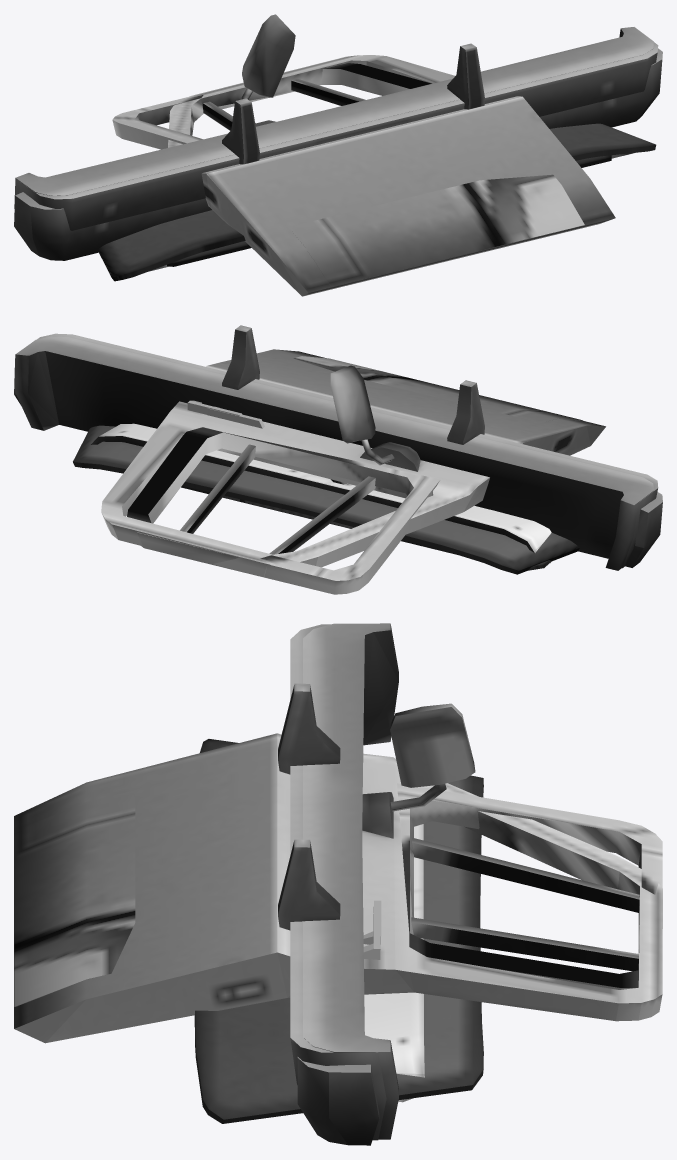
The model's file is Vehicles_3rdGenChevyCKseries_Objects.fbx.
3 views of the same model, one above another, from view 1: azimuth 30°, elevation 25°; view 2: azimuth 150°, elevation 25°; view 3: azimuth 270°, elevation 25° (orthographic). The views are drawn at different scales.
Visible parts, largest first — view 1: 3rdGenChevyCKseries_door_flWI, 3rdGenChevyCKseries_door_rlWI, 3rdGenChevyCKseries_bumper_front1WI, 3rdGenChevyCKseries_bumper_front0WI, 3rdGenChevyCKseries_bumper_rear0WI, 3rdGenChevyCKseries_windshield_frontWI, 3rdGenChevyCKseries_window_blWI; view 2: 3rdGenChevyCKseries_bumper_front1WI, 3rdGenChevyCKseries_door_flWI, 3rdGenChevyCKseries_door_rlWI, 3rdGenChevyCKseries_windshield_frontWI, 3rdGenChevyCKseries_visorWI, 3rdGenChevyCKseries_bumper_front0WI, 3rdGenChevyCKseries_bumper_rear0WI, 3rdGenChevyCKseries_window_blWI; view 3: 3rdGenChevyCKseries_door_flWI, 3rdGenChevyCKseries_door_rlWI, 3rdGenChevyCKseries_bumper_front1WI, 3rdGenChevyCKseries_windshield_frontWI, 3rdGenChevyCKseries_bumper_rear0WI, 3rdGenChevyCKseries_bumper_front0WI, 3rdGenChevyCKseries_visorWI.
Boxes of the visible parts, x1,y1,x2,y2 form: 3rdGenChevyCKseries_door_flWI: [168, 14, 615, 296]; 3rdGenChevyCKseries_door_rlWI: [112, 63, 584, 286]; 3rdGenChevyCKseries_bumper_front1WI: [14, 27, 653, 208]; 3rdGenChevyCKseries_bumper_front0WI: [19, 42, 658, 230]; 3rdGenChevyCKseries_bumper_rear0WI: [14, 48, 662, 260]; 3rdGenChevyCKseries_windshield_frontWI: [97, 123, 656, 281]; 3rdGenChevyCKseries_window_blWI: [167, 155, 611, 266]; 3rdGenChevyCKseries_bumper_front1WI: [14, 325, 653, 570]; 3rdGenChevyCKseries_door_flWI: [101, 349, 605, 577]; 3rdGenChevyCKseries_door_rlWI: [127, 356, 583, 594]; 3rdGenChevyCKseries_windshield_frontWI: [73, 425, 579, 574]; 3rdGenChevyCKseries_visorWI: [91, 423, 551, 563]; 3rdGenChevyCKseries_bumper_front0WI: [37, 333, 658, 568]; 3rdGenChevyCKseries_bumper_rear0WI: [14, 358, 662, 567]; 3rdGenChevyCKseries_window_blWI: [181, 486, 551, 570]; 3rdGenChevyCKseries_door_flWI: [14, 703, 662, 1043]; 3rdGenChevyCKseries_door_rlWI: [14, 783, 662, 1006]; 3rdGenChevyCKseries_bumper_front1WI: [278, 623, 398, 1139]; 3rdGenChevyCKseries_windshield_frontWI: [194, 739, 483, 1123]; 3rdGenChevyCKseries_bumper_rear0WI: [297, 1057, 379, 1145]; 3rdGenChevyCKseries_bumper_front0WI: [290, 624, 386, 1140]; 3rdGenChevyCKseries_visorWI: [364, 824, 424, 1102].
Bounding box in the file's own units: 1.96 × 0.4534 × 1.23.
1 material, 1 textured.
